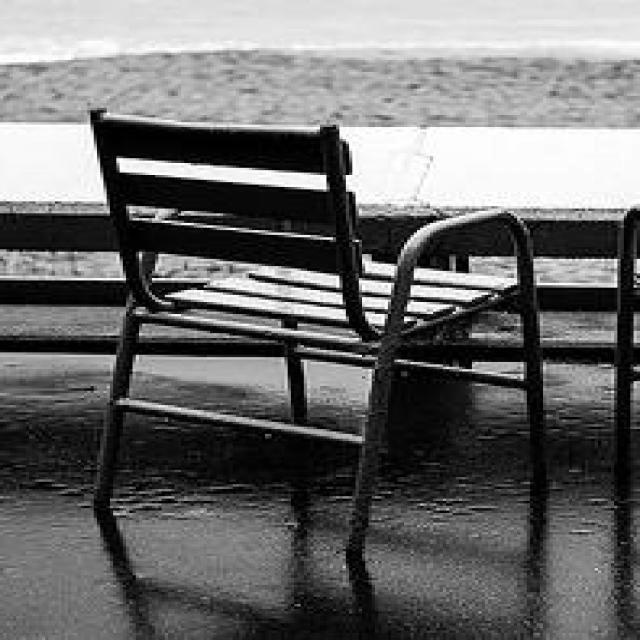chair: (88, 98, 562, 542)
